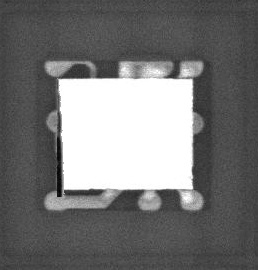DIE_BROKEN: (56, 105, 67, 201)
